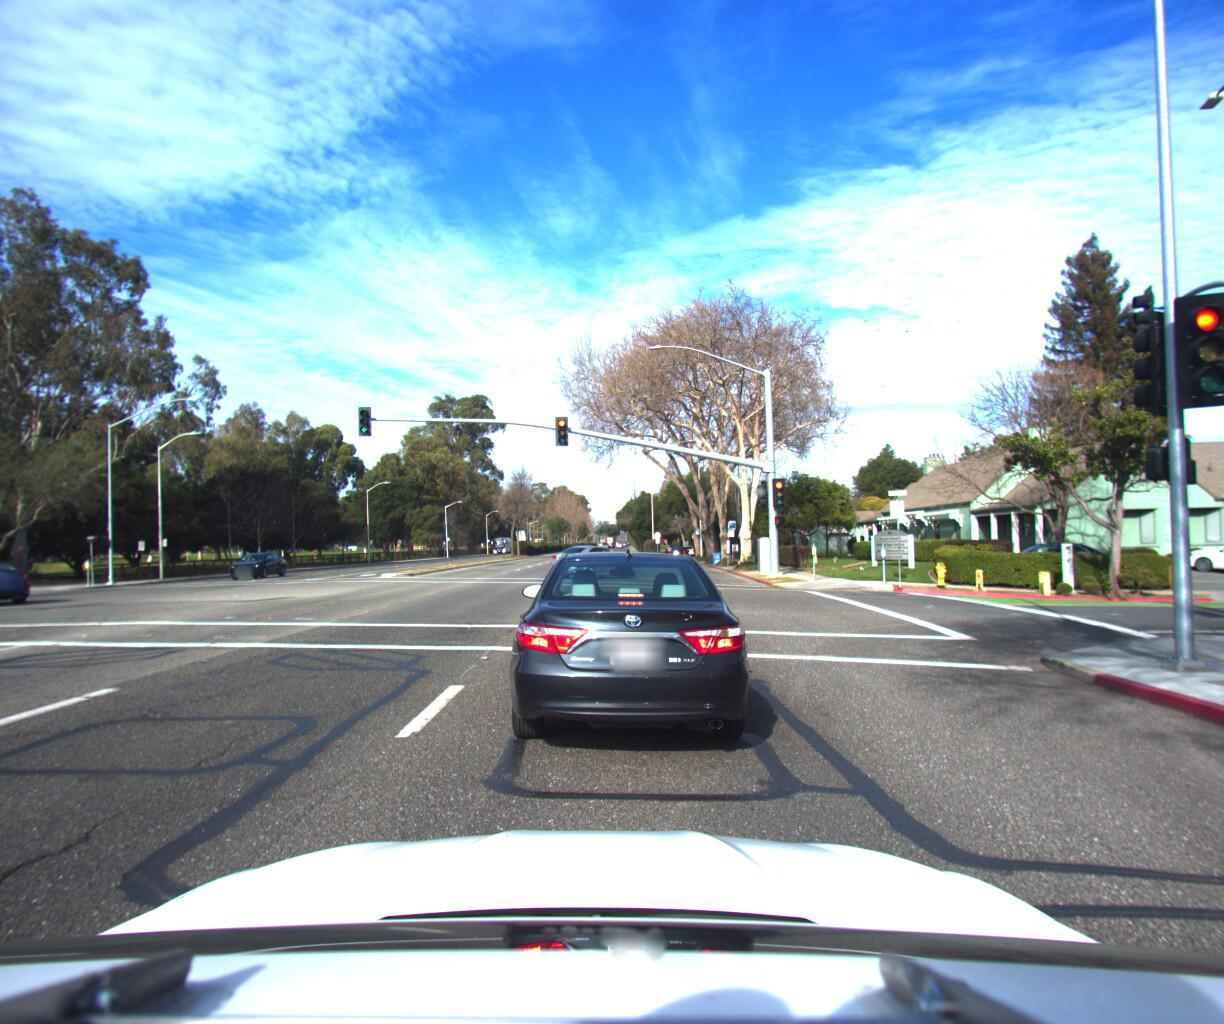car: (494, 543, 764, 779), (981, 529, 1123, 574), (545, 533, 640, 571), (0, 545, 50, 601), (1170, 526, 1224, 566), (226, 542, 297, 573)
